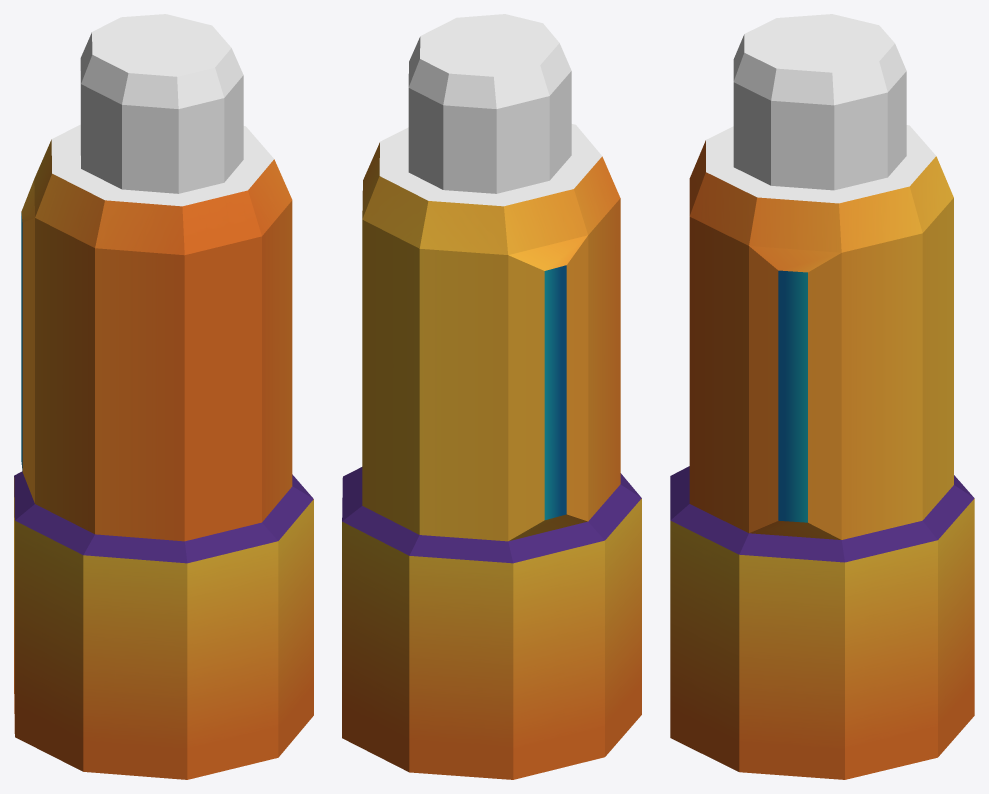
File: SM_BottleSmall.fbx
3 views of the same model, side by side, from view 1: azimuth 30°, elevation 25°; view 2: azimuth 150°, elevation 25°; view 3: azimuth 270°, elevation 25° (orthographic).
Parts seen in each view (by area): view 1: BottleSmall; view 2: BottleSmall; view 3: BottleSmall.
Part boxes in pixels (left/top/right/bottom): BottleSmall: left=14, top=14, right=313, bottom=779; BottleSmall: left=342, top=14, right=641, bottom=779; BottleSmall: left=670, top=14, right=974, bottom=779.
Bounding box in the file's own units: 8.68 × 8.67 × 21.16.
